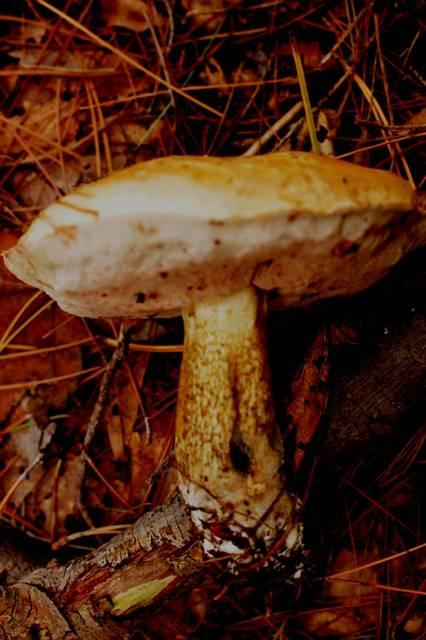poisonous_mushroom: (2, 148, 424, 566)
